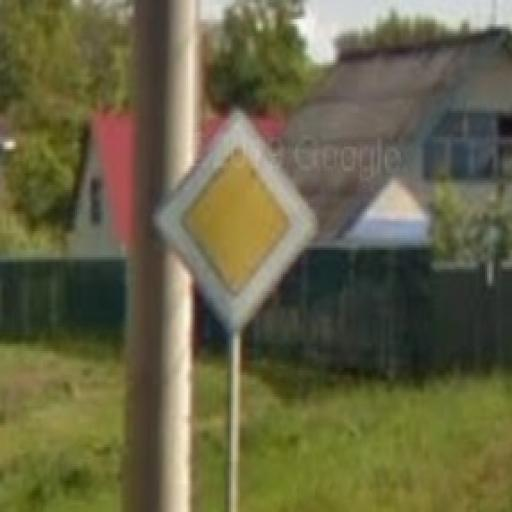traffic_sign: (151, 107, 320, 340)
